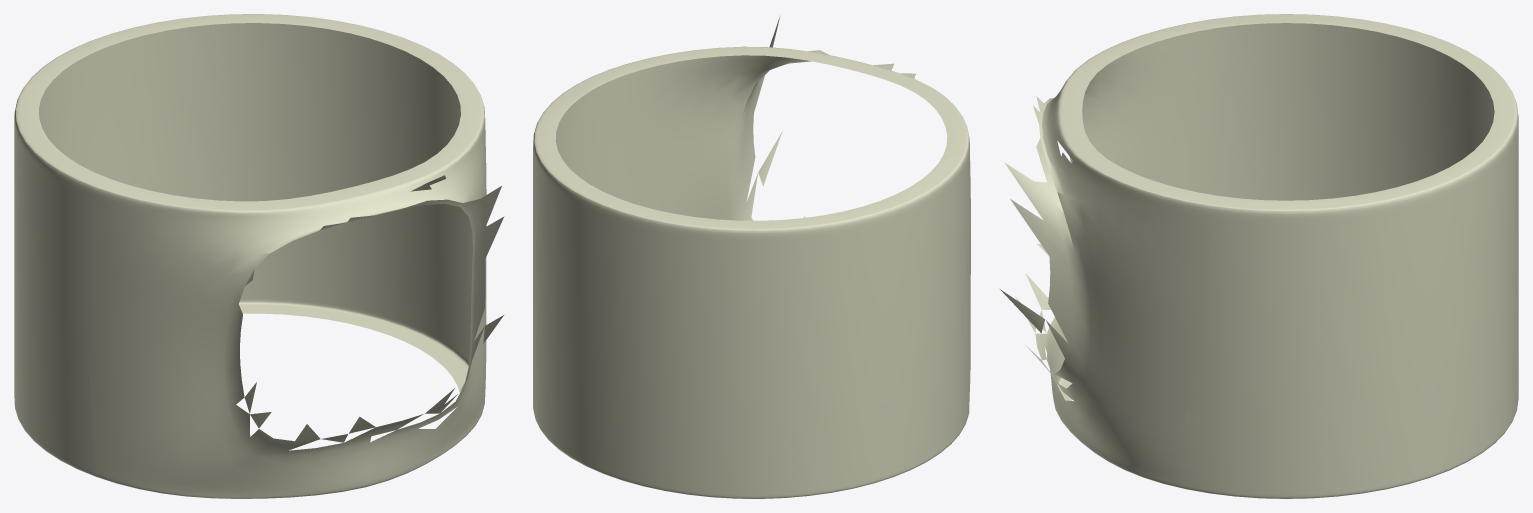
3 views of the same model, side by side, from view 1: azimuth 30°, elevation 25°; view 2: azimuth 150°, elevation 25°; view 3: azimuth 270°, elevation 25° (orthographic). The views are drawn at different scales.
Bounding box in the file's own units: 0.2132 × 0.1465 × 0.236.
